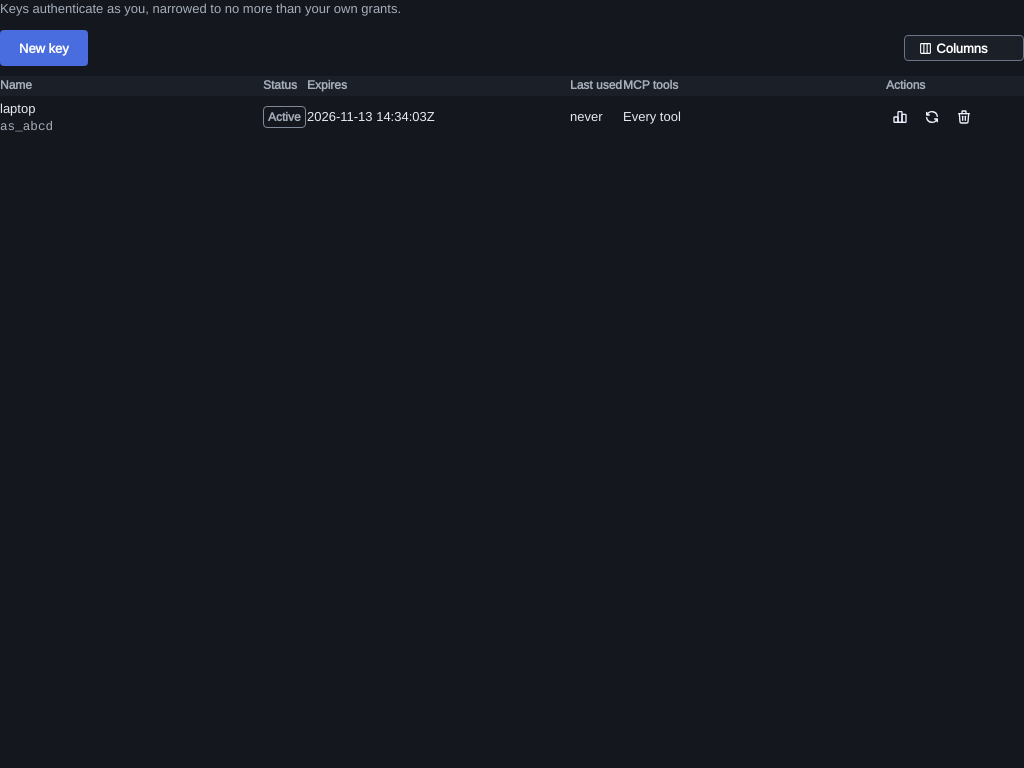
Test case: ApiKeysPanel › keeps a one-time secret on screen until it is confirmed copied
Click the button named "Rotate laptop" at (932, 117), box [918,103,946,131]
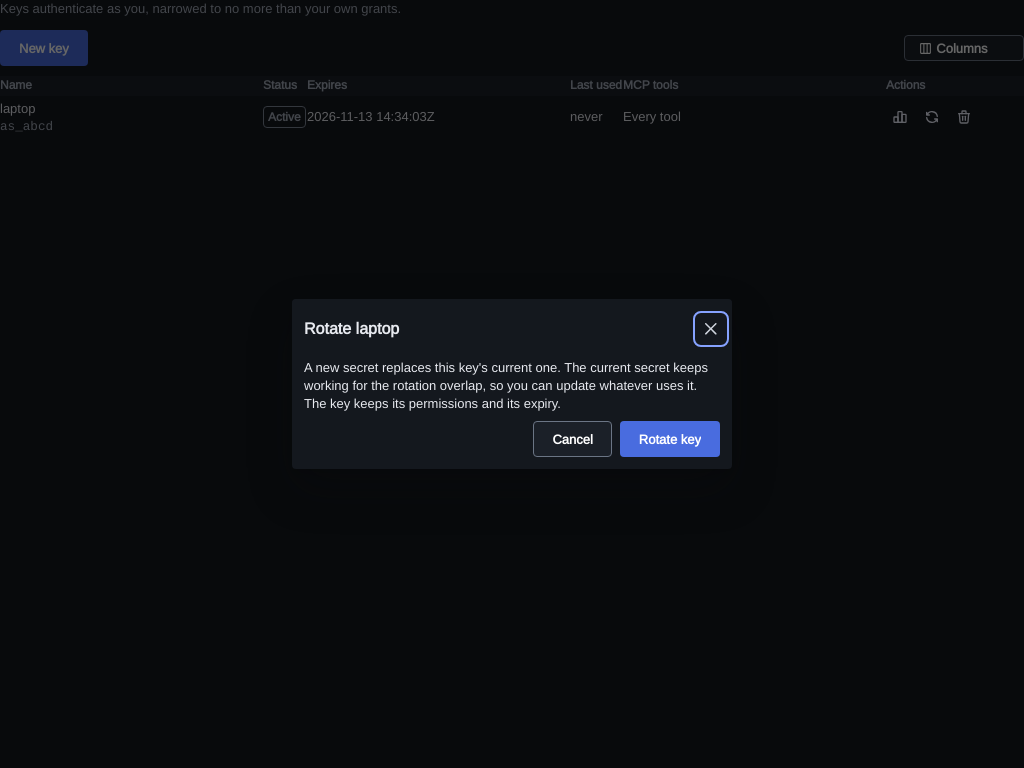
Click the button "Rotate key" at (670, 439), box [620,421,720,457]
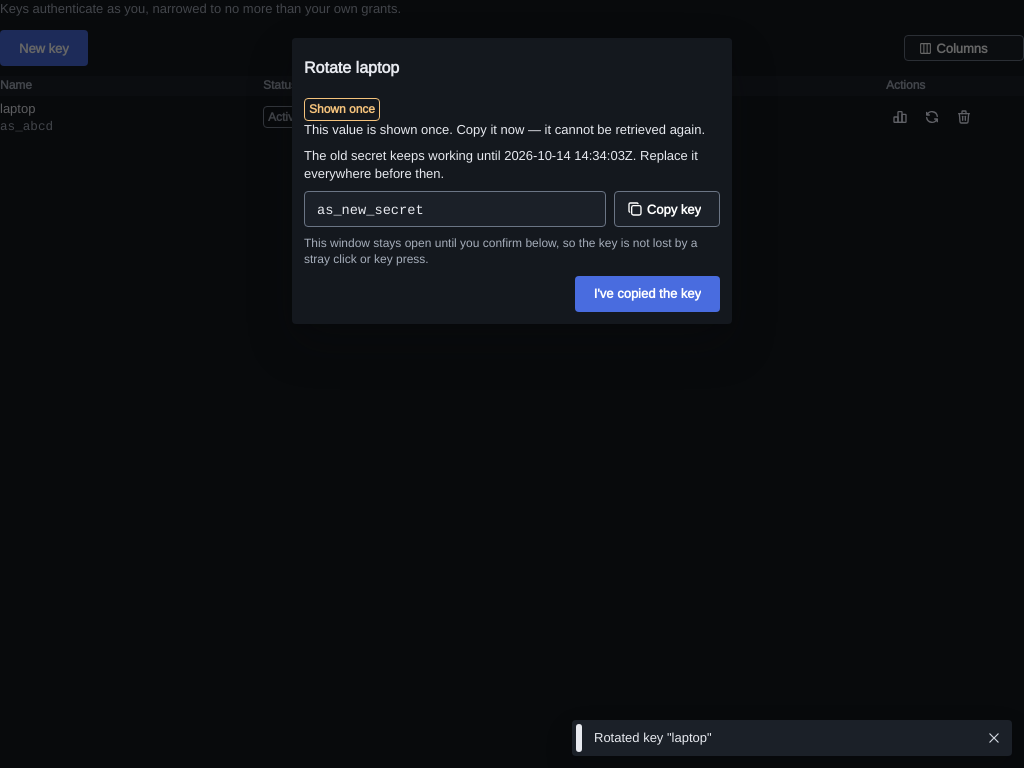
Expected: the field showing "as_new_secret" is shown, [304,191,606,227]
Press Escape
Expected: the dialog "Rotate laptop" is shown, [292,38,732,324]
Click the button "Copy key" at (667, 209), box [614,191,720,227]
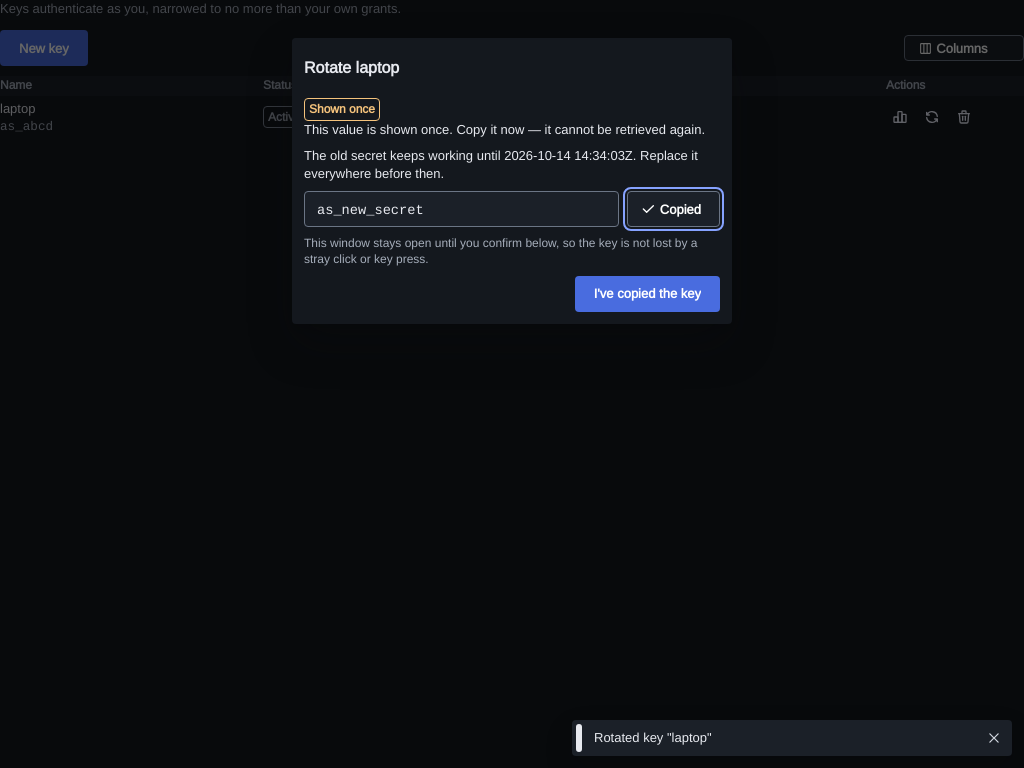
Expected: the button "Copied" is shown, [627,191,720,227]
Click the button "I've copied the key" at (647, 294), box [575,276,720,312]
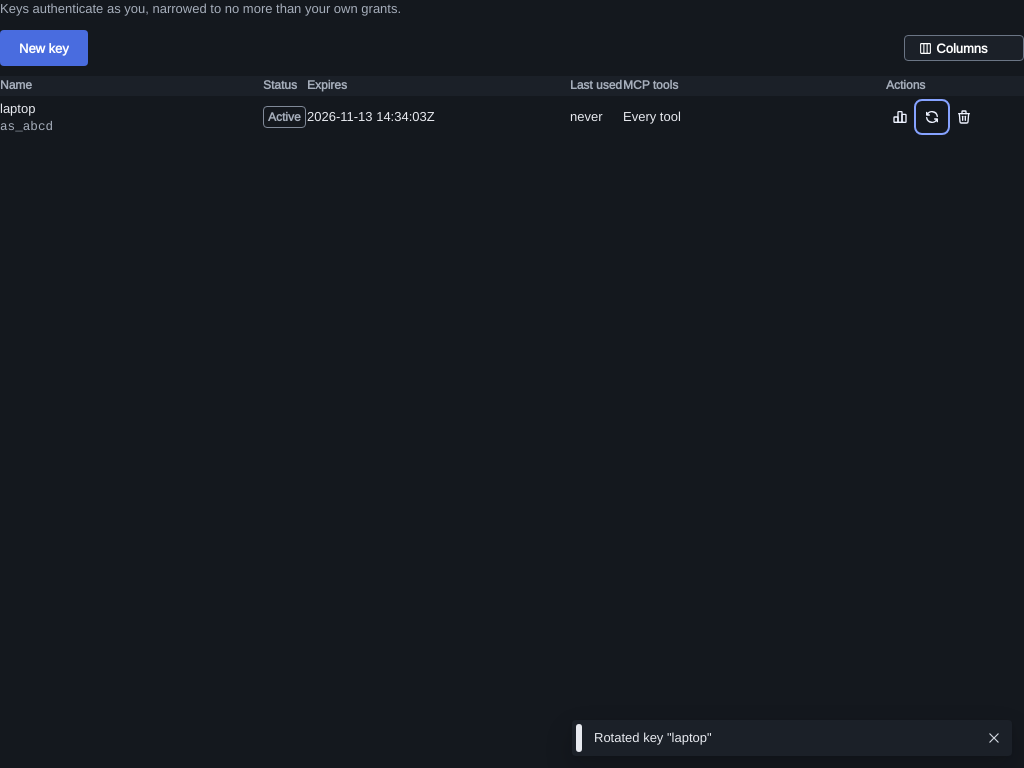
Expected: the dialog is gone
